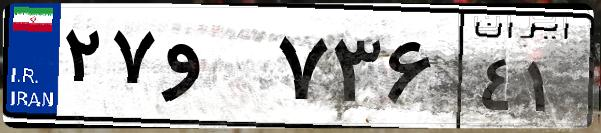1: (525, 38, 570, 115)
2: (57, 26, 110, 100)
3: (330, 28, 385, 110)
4: (475, 38, 525, 113)
6: (385, 28, 445, 110)
7: (270, 28, 330, 110), (110, 28, 158, 98)
و: (158, 20, 270, 120)
